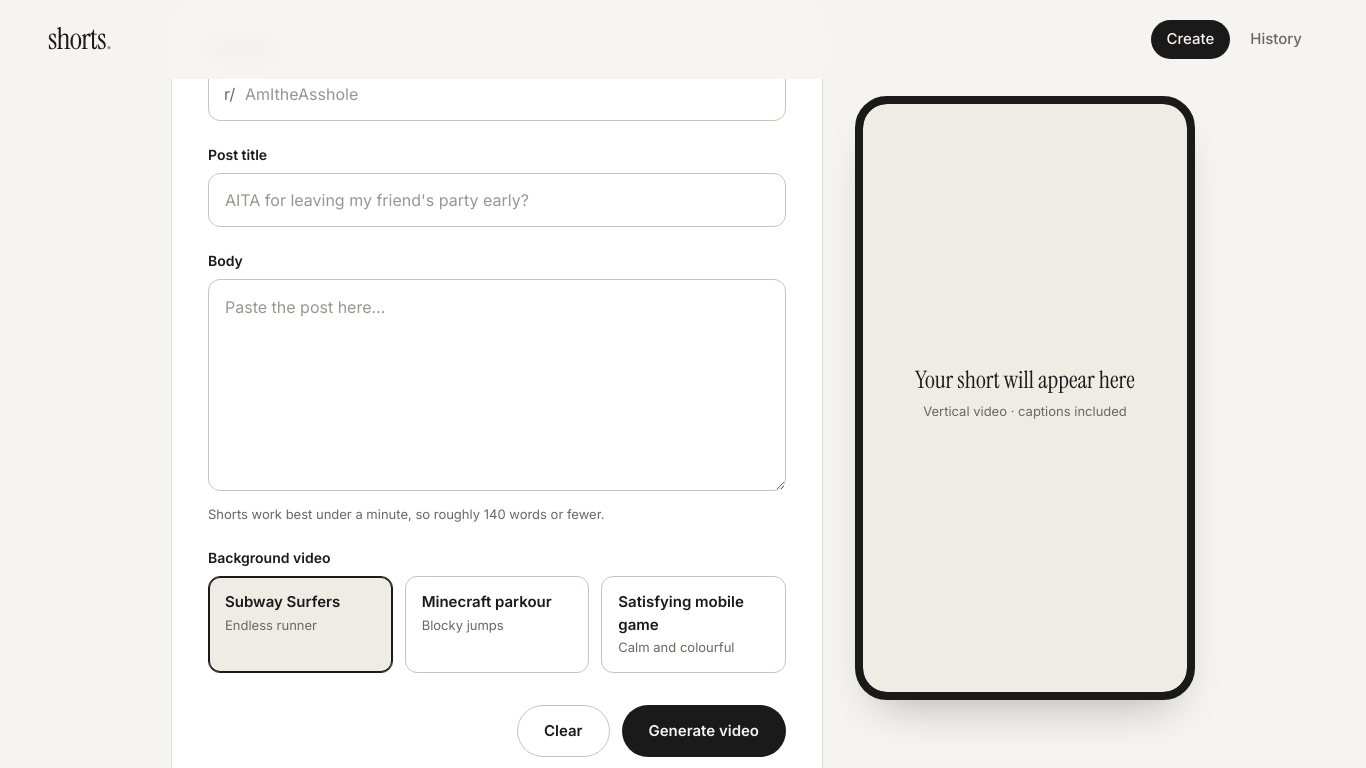
it: editing › uses the singular for one word
The width and height of the screenshot is (1366, 768).
(page scrolled)
In the text box labelled "Body": (497, 385) top-left (208, 279), bottom-right (786, 491), type "Hello"
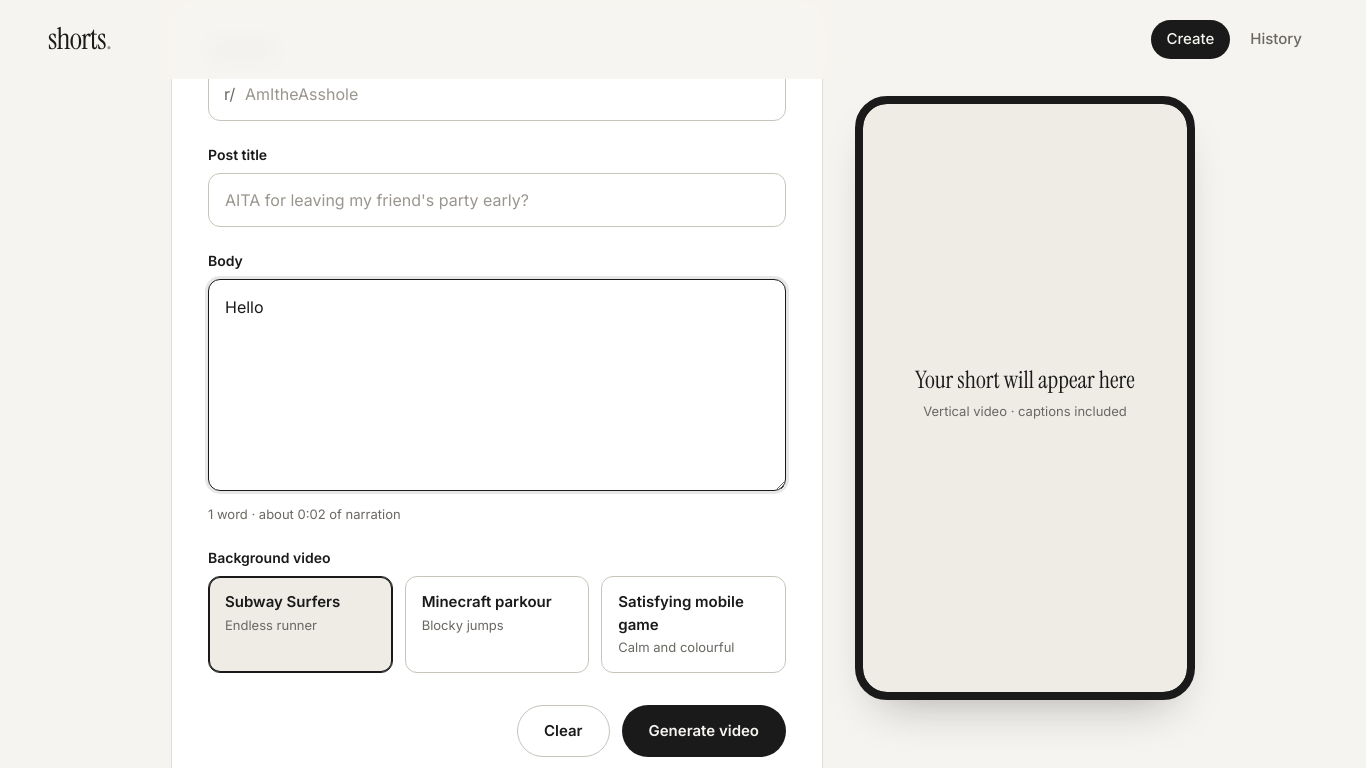
Now the text "1 word · about 0:02 of narration" is shown, box top-left (208, 506), bottom-right (401, 522)
